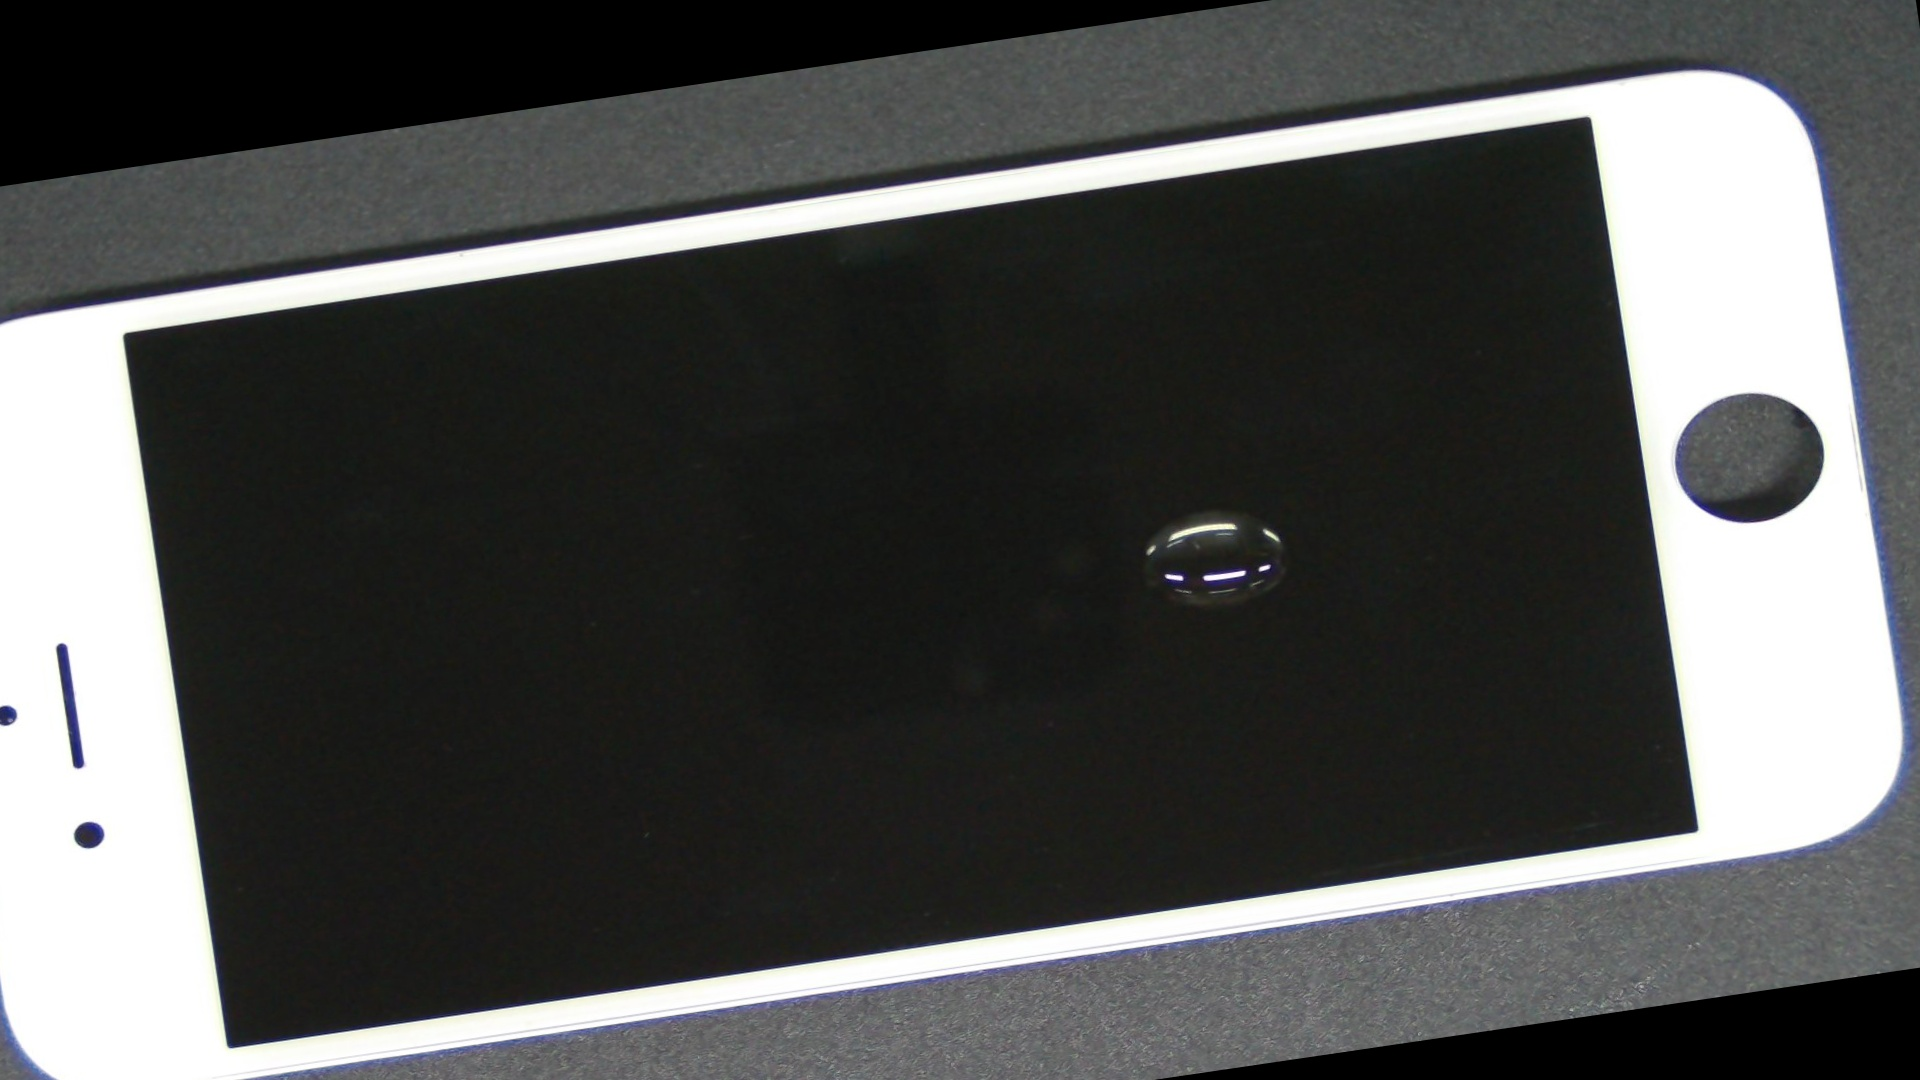oil: (488, 162, 1920, 857)
